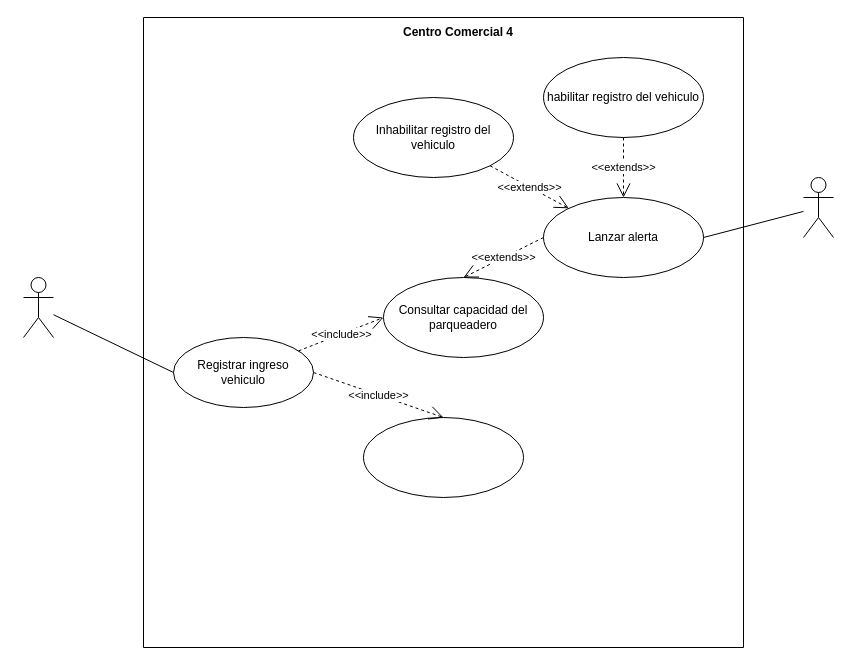
Image size: 863x665. Some labels were removed from this diagram. Here are the shapes that lost their labels. From the top down, the centre of each, then its label:
the point at 818,207: Aplicación
the point at 38,307: Guardia
the point at 443,457: Ingresar datos del vehiculo
